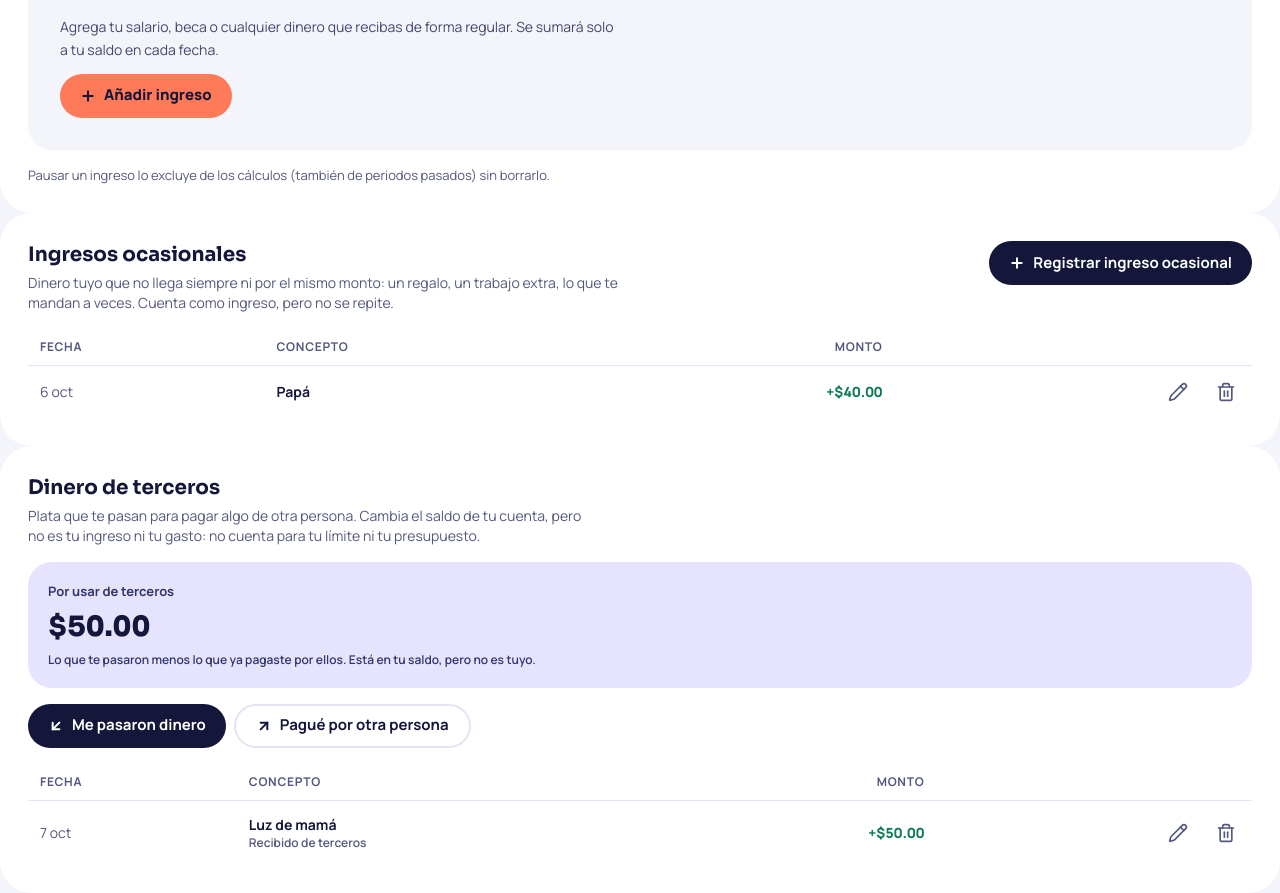
it: Occasional income and someone else's money › asks no category when paying for someone else
(page scrolled)
Click the button "Pagué por otra persona" at {"x": 352, "y": 726}, box [234,704,470,748]
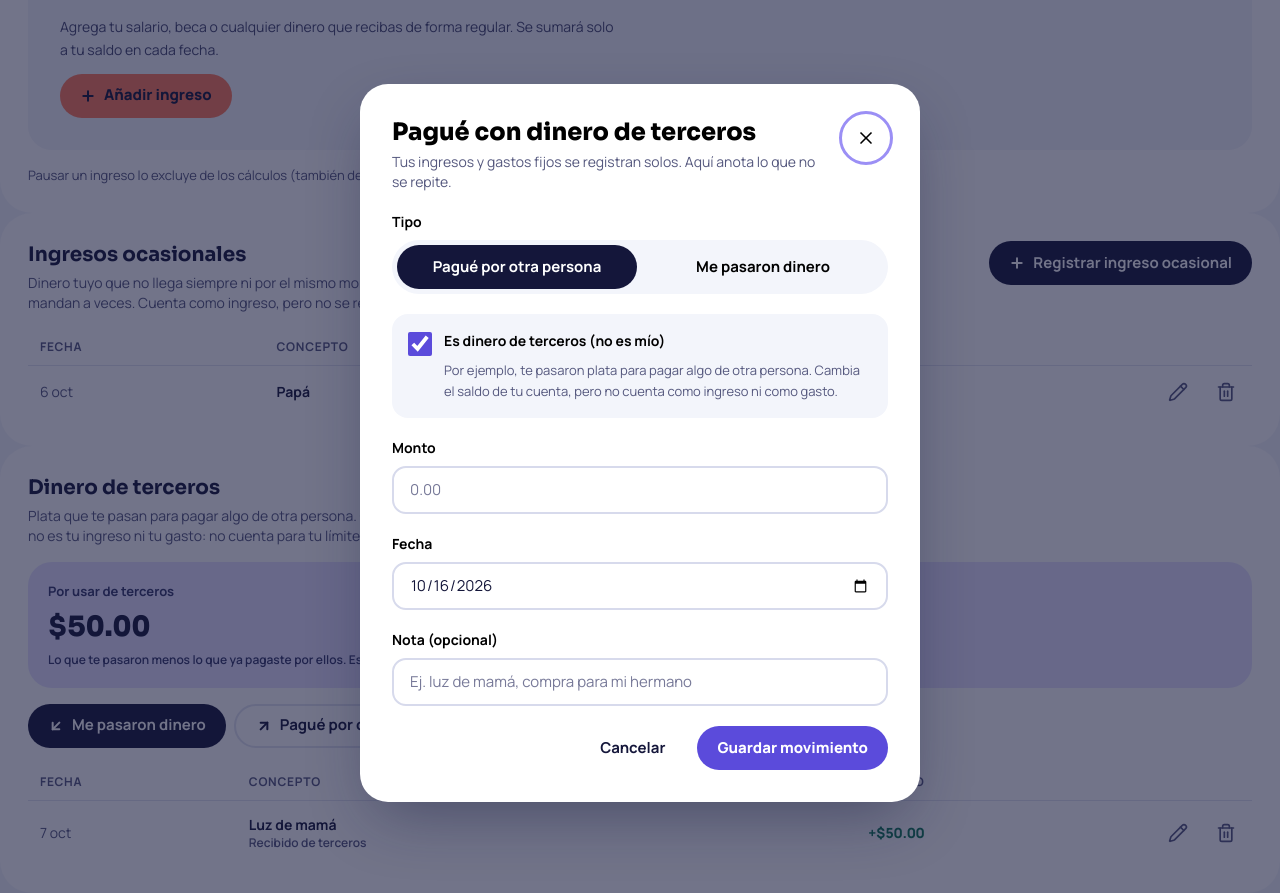
Check: the radio button labelled "Pagué por otra persona" is checked, box [397,245,637,289]
